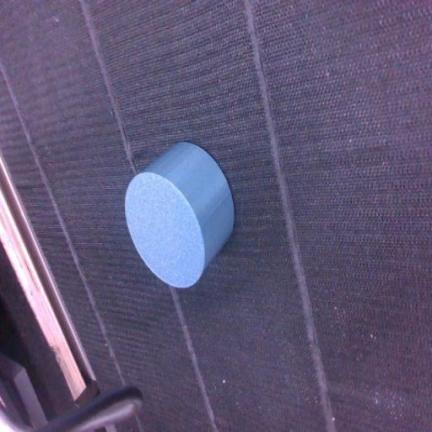cylinder: (125, 143, 234, 287)
